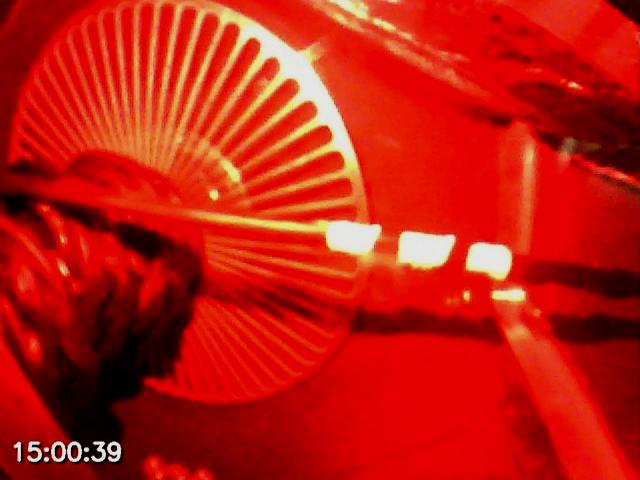white-dots: (325, 219, 511, 282)
